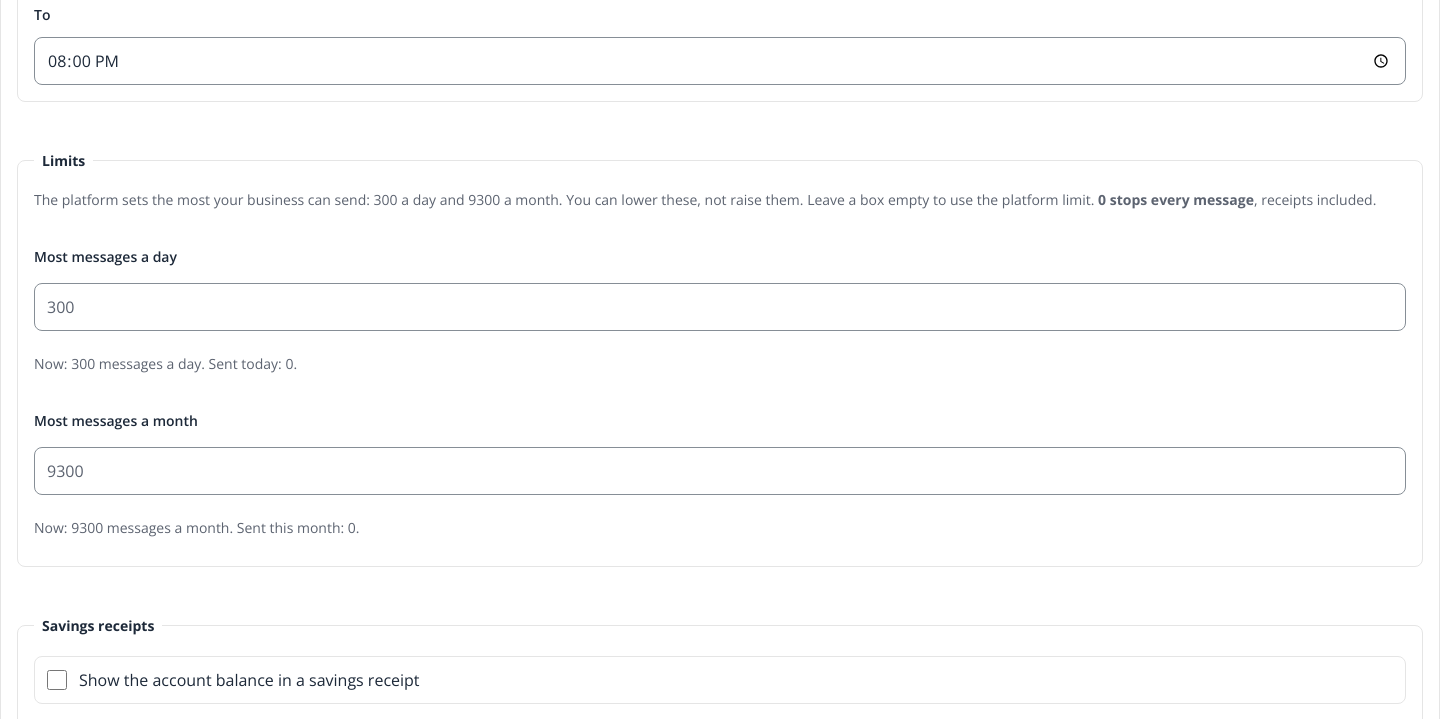
Test: the settings form › sends a cap of 0 as the number 0 and warns that it stops everything
The image size is (1440, 719).
(page scrolled)
Type "0" into the field labelled "Most messages a day" at coordinates (720, 307), box [34,283,1406,331]
(page scrolled)
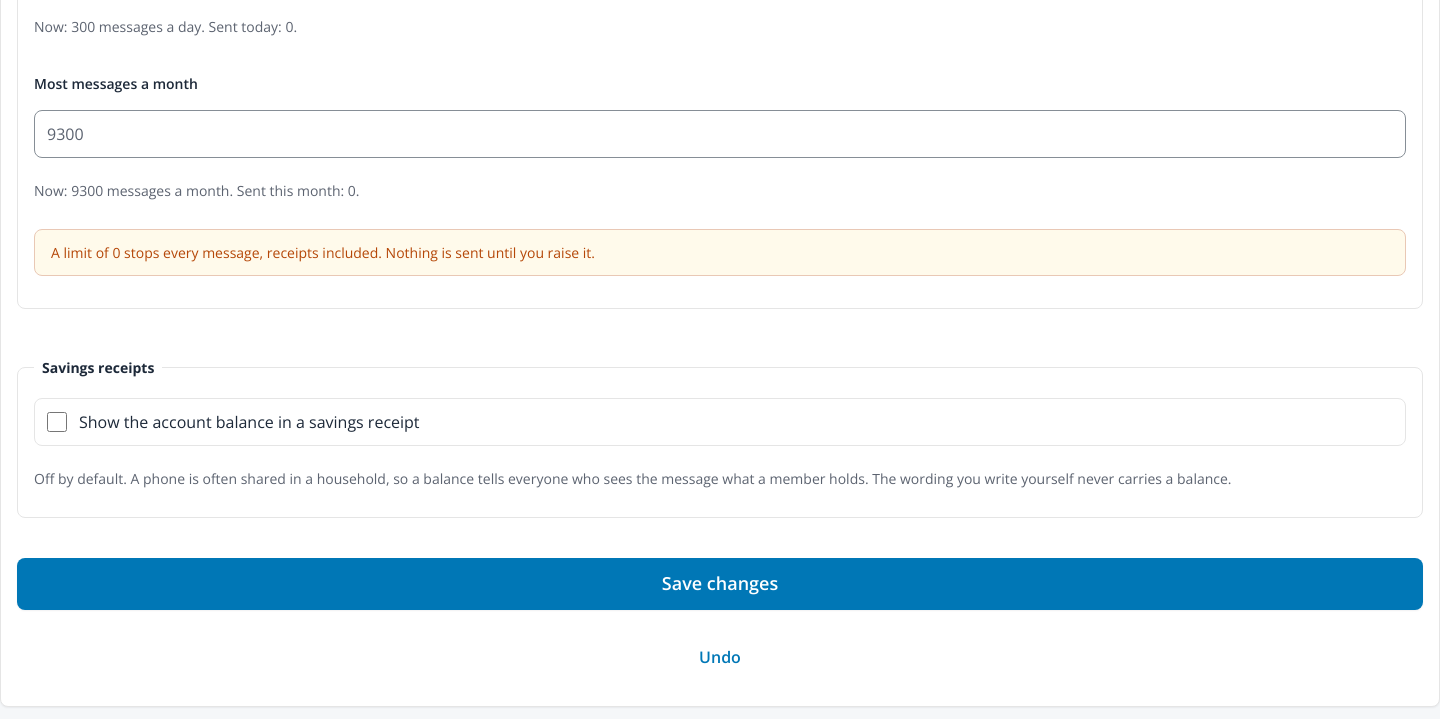
Now the text "A limit of 0 stops every message, receipts included" is shown, box [51,243,595,262]
Click the button "Save changes" at coordinates (720, 584), box [17,558,1423,610]
(page scrolled)
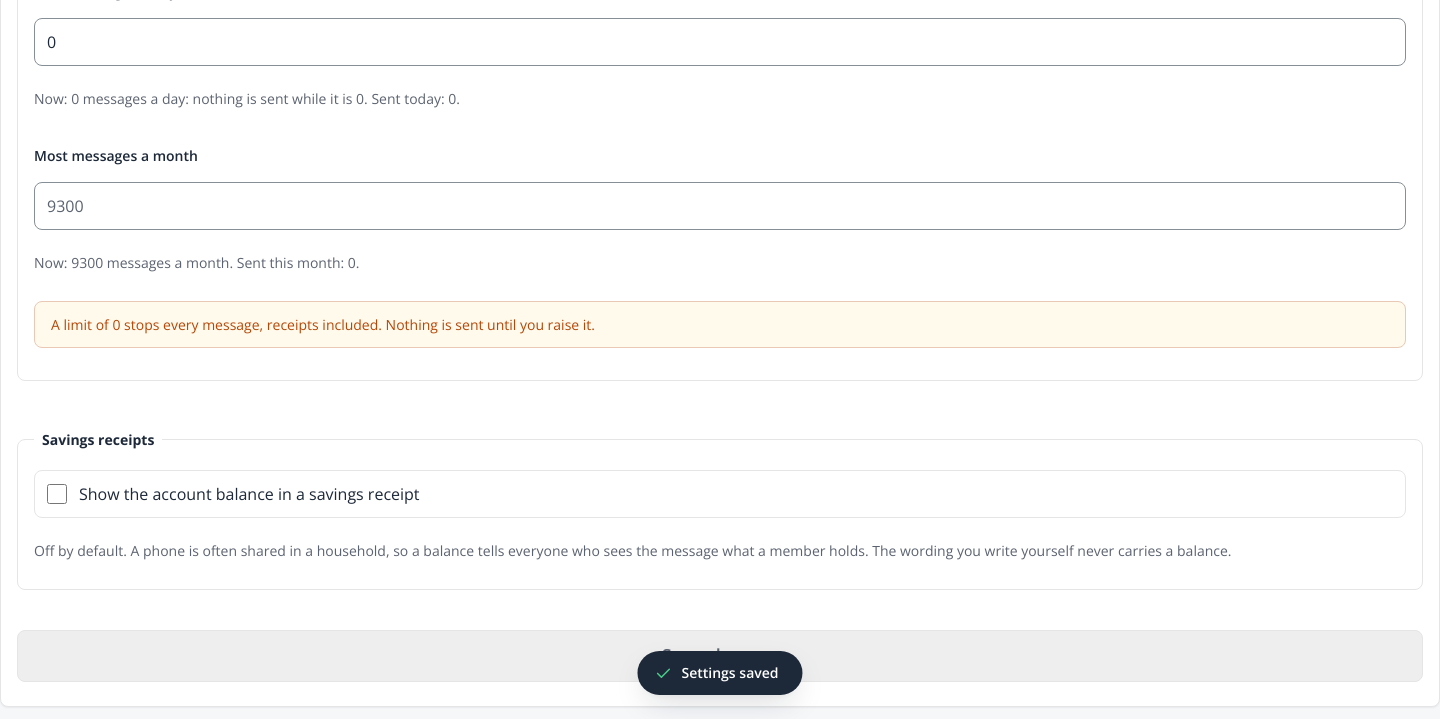
Now the field labelled "Most messages a day" holds "0", box [34,18,1406,66]
Now the text "Now: 0 messages a day: nothing is sent while it is 0" is shown, box [34,89,460,108]
